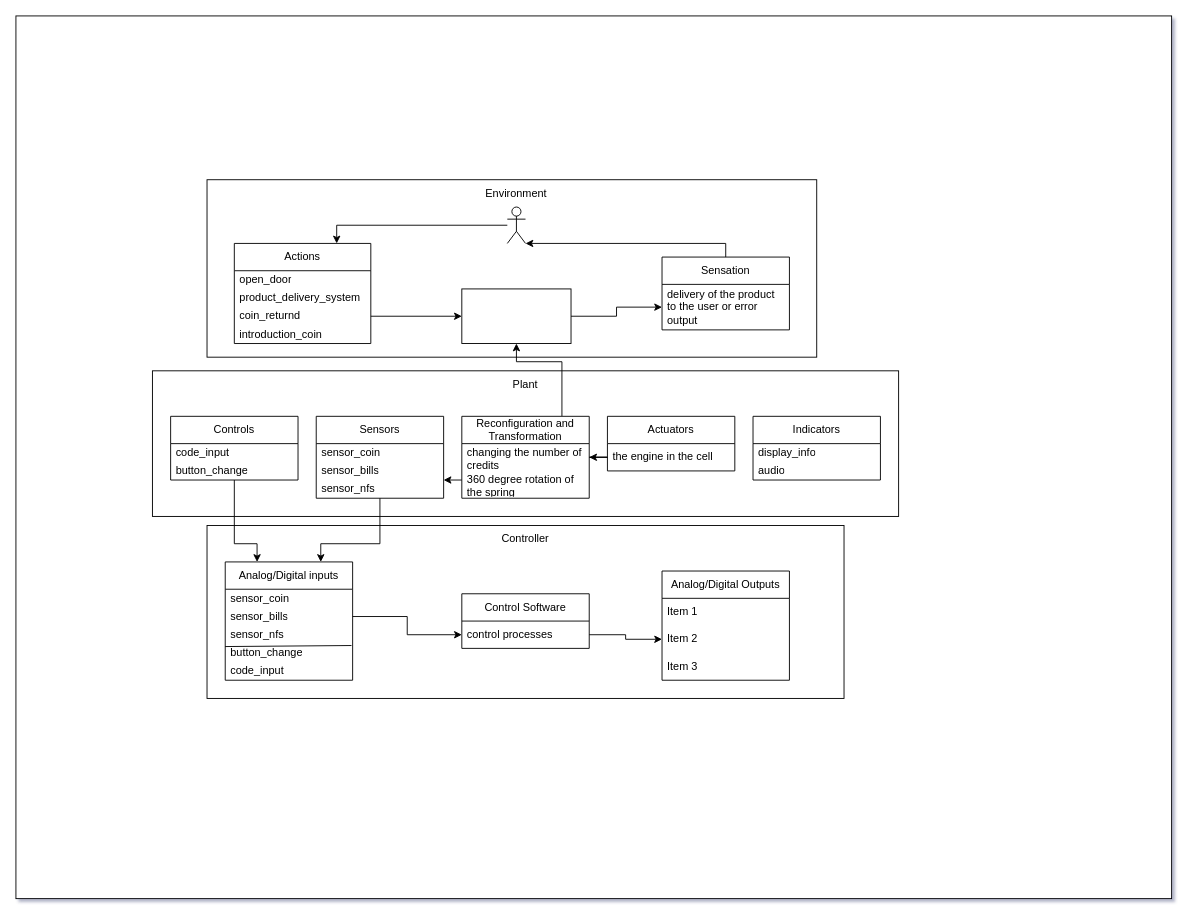
Some shapes in this 1193 by 920 pixel diagram are drawn without their labels. The shapes that lost their labels are listed below. From the top down, each one's centre as x and y in pixels, then its label:
the point at 516,224: User
the point at 516,316: Effects
